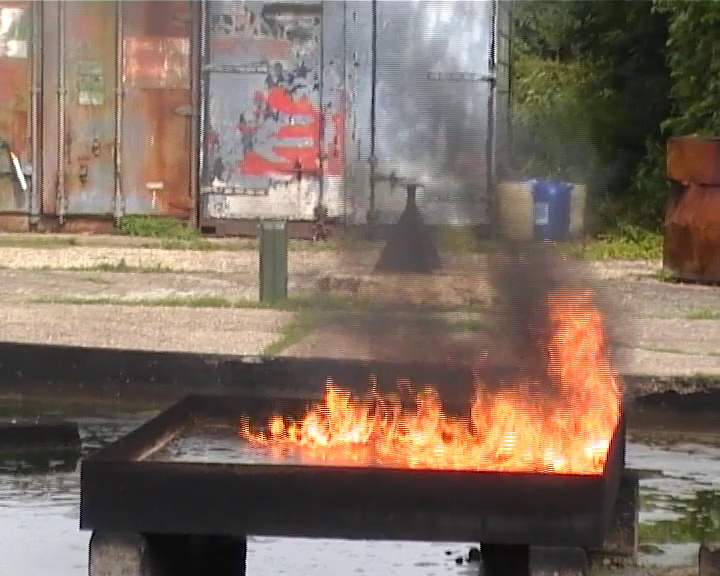fire: (242, 292, 625, 475)
